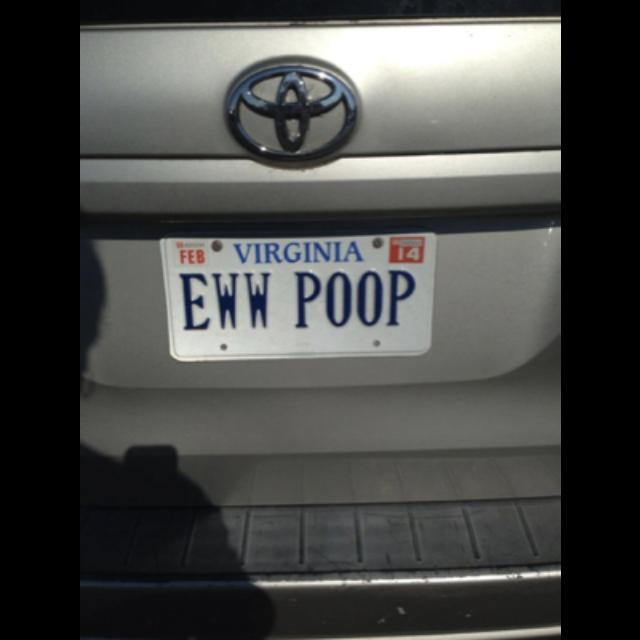carPlate: (160, 235, 432, 352)
